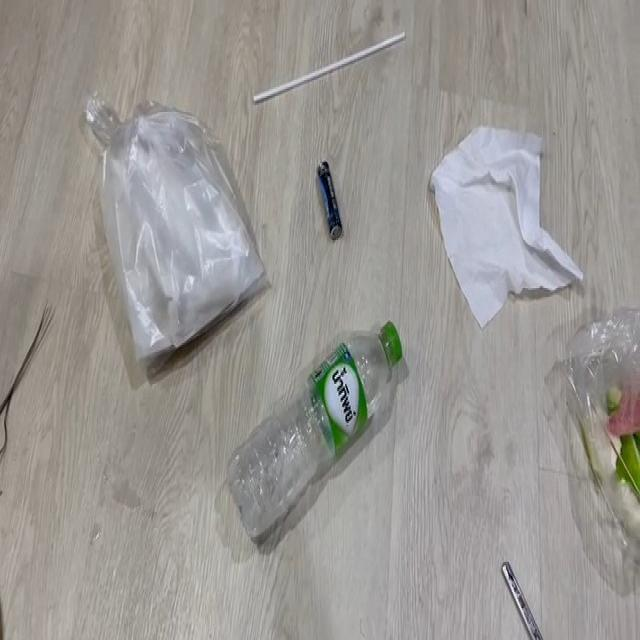Anorganik: (86, 96, 255, 353), (228, 326, 426, 526), (436, 98, 574, 322), (260, 30, 421, 94), (488, 535, 552, 640)
B3: (0, 286, 64, 638), (576, 319, 640, 516), (315, 144, 349, 249)
